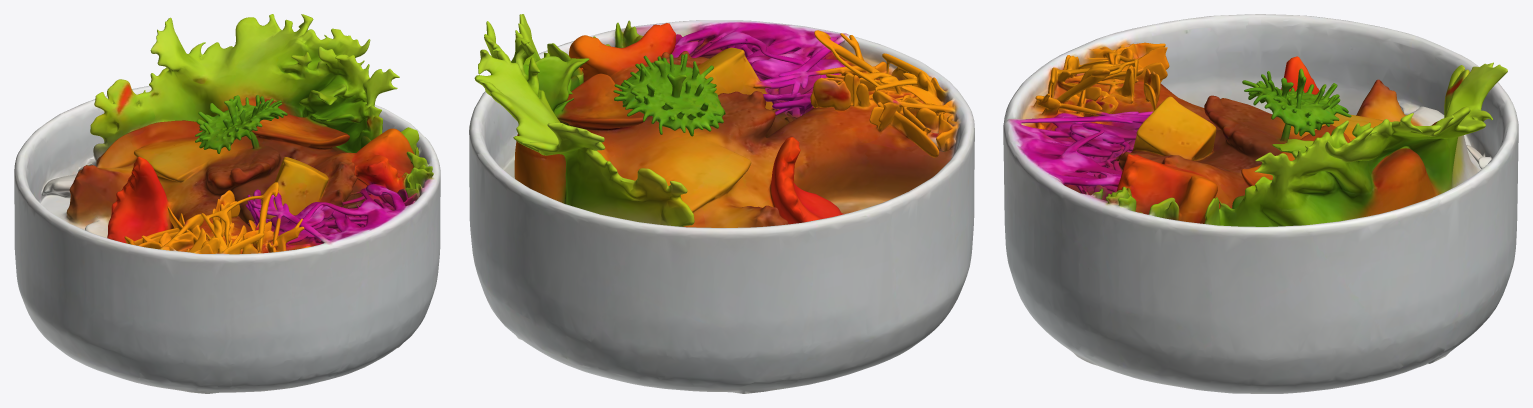
File: salad-a.glb
The picture shows the model from 3 angles, left to right: view 1: azimuth 30°, elevation 25°; view 2: azimuth 150°, elevation 25°; view 3: azimuth 270°, elevation 25°; orthographic projection. The views are drawn at different scales.
Parts seen in each view (by area): view 1: tripo_node_4f63442b-5f2b-4d2d-bc22-4bed4d06b75c; view 2: tripo_node_4f63442b-5f2b-4d2d-bc22-4bed4d06b75c; view 3: tripo_node_4f63442b-5f2b-4d2d-bc22-4bed4d06b75c.
Boxes of the visible parts, x1,y1,x2,y2 form: tripo_node_4f63442b-5f2b-4d2d-bc22-4bed4d06b75c: [14, 14, 440, 393]; tripo_node_4f63442b-5f2b-4d2d-bc22-4bed4d06b75c: [469, 14, 974, 393]; tripo_node_4f63442b-5f2b-4d2d-bc22-4bed4d06b75c: [1003, 14, 1518, 393].
Bounding box in the file's own units: 0.9796 × 0.5638 × 0.9772.
1 material, 1 textured.
